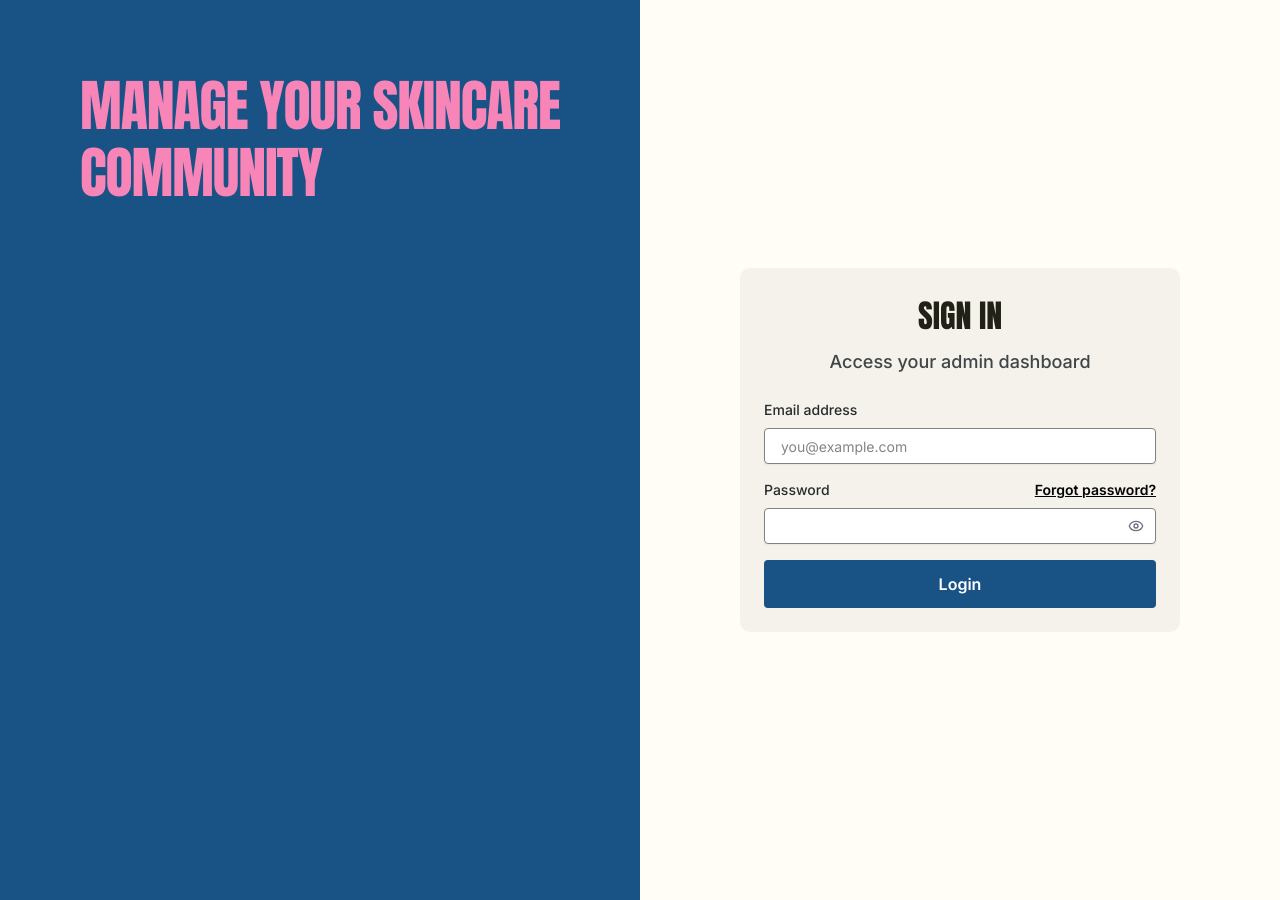
Scenario: LoginForm - UI Tests › maintains form state correctly through navigation
This screenshot has width=1280, height=900.
# Type in login form
Type "test@example.com" into the field labelled "Email address". click: x=960, y=446
box: 764,428 -> 1156,464
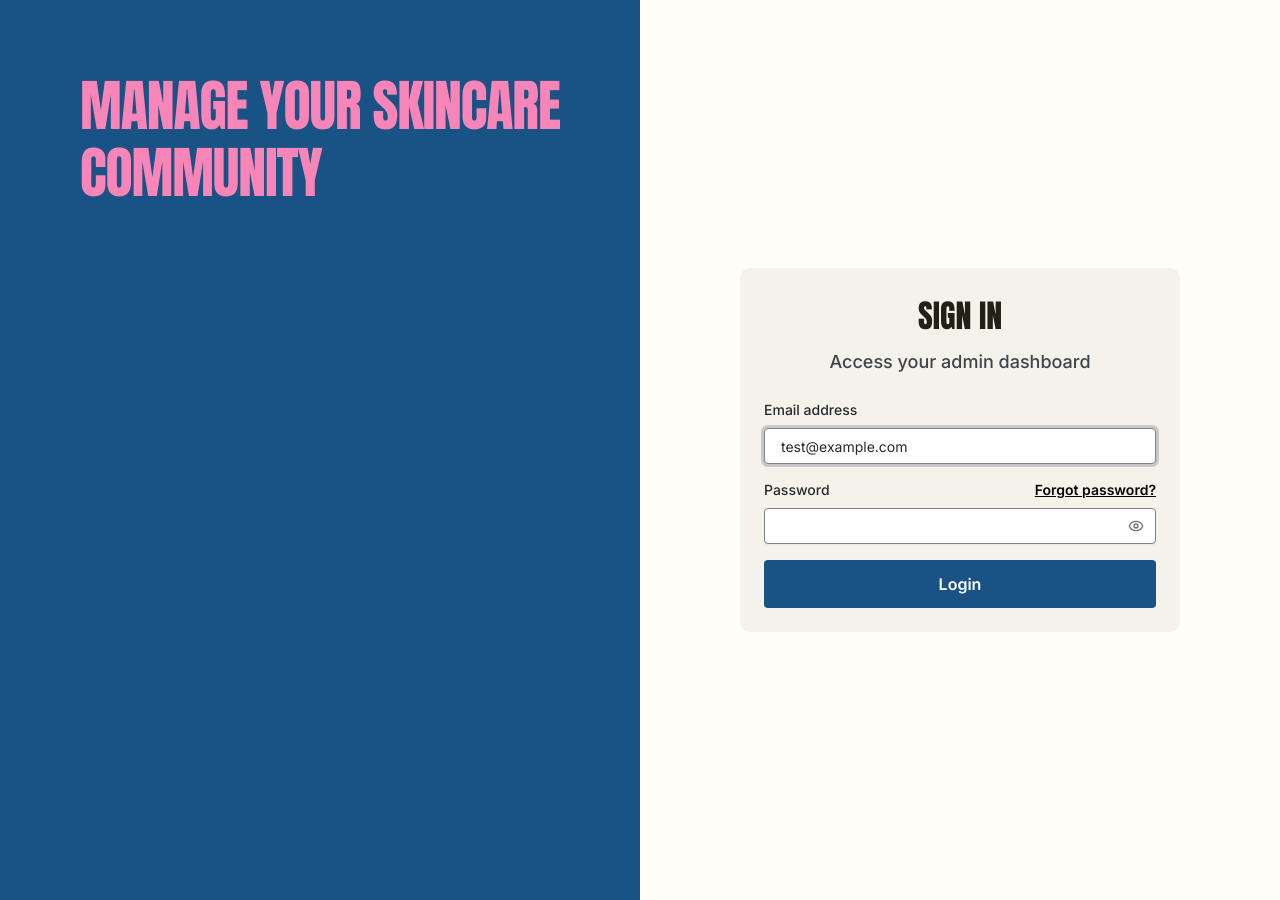
# Navigate to forgot password
Click the button "Forgot password?". click: x=1095, y=490
box: 1035,480 -> 1156,500
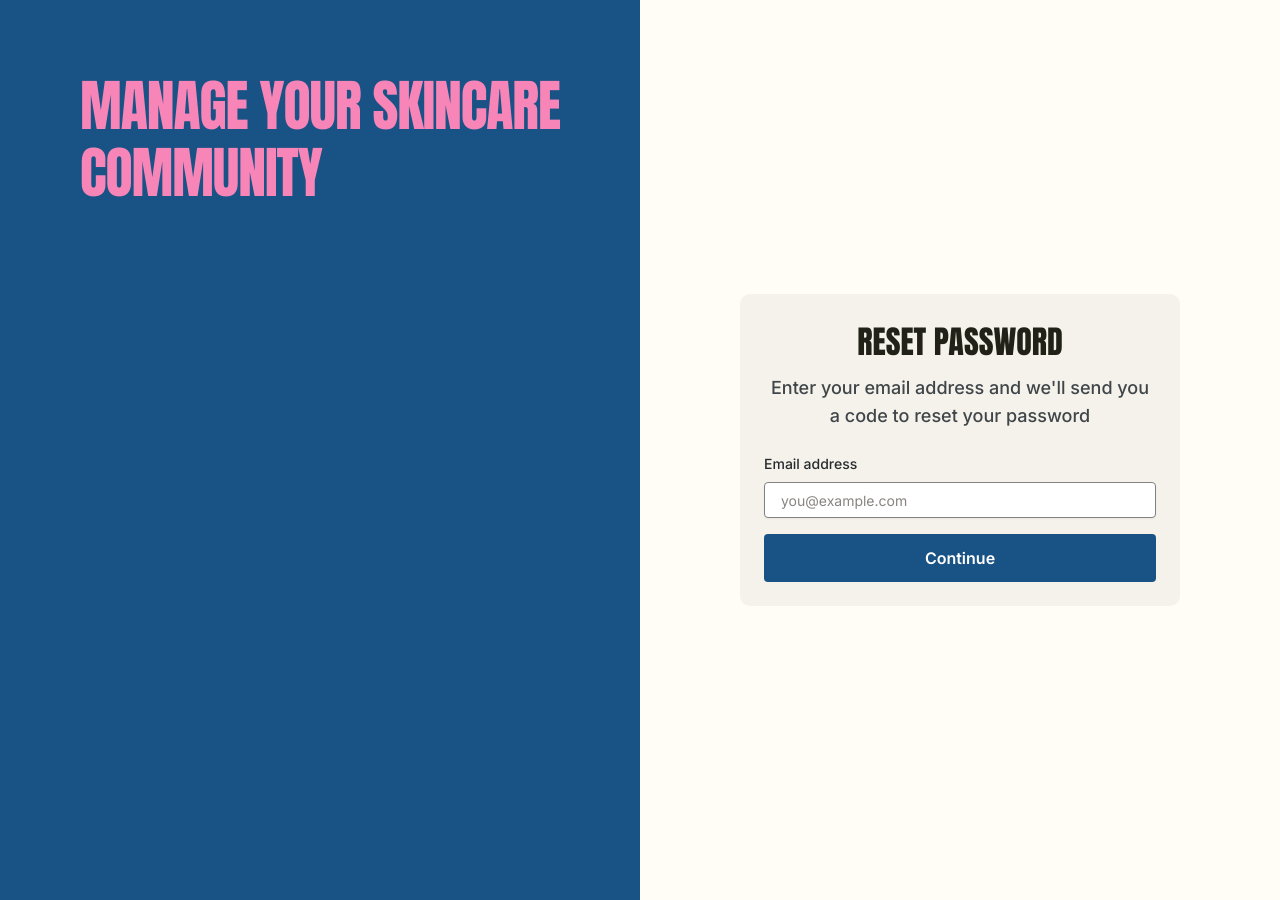
Result: the heading "Reset Password" is shown at 857,317 -> 1063,366
Result: the field labelled "Email address" is empty at 764,482 -> 1156,518
